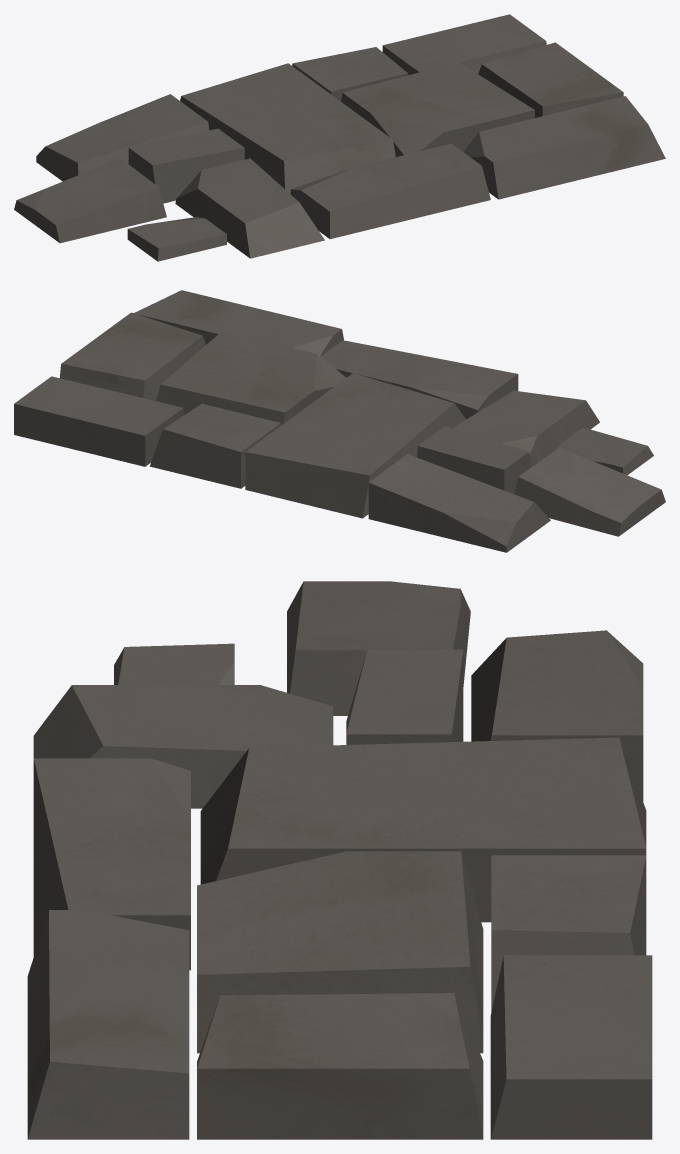
File: ShiTou01.fbx
The picture shows the model from 3 angles, top to bottom: view 1: azimuth 30°, elevation 25°; view 2: azimuth 150°, elevation 25°; view 3: azimuth 270°, elevation 25°; orthographic projection. The views are drawn at different scales.
Parts seen in each view (by area): view 1: shitou01; view 2: shitou01; view 3: shitou01.
Part boxes in pixels (x1,y1,x2,y2): shitou01: [14, 14, 665, 261]; shitou01: [14, 290, 665, 552]; shitou01: [27, 581, 652, 1139].
Bounding box in the file's own units: 200 × 13.86 × 99.85.
